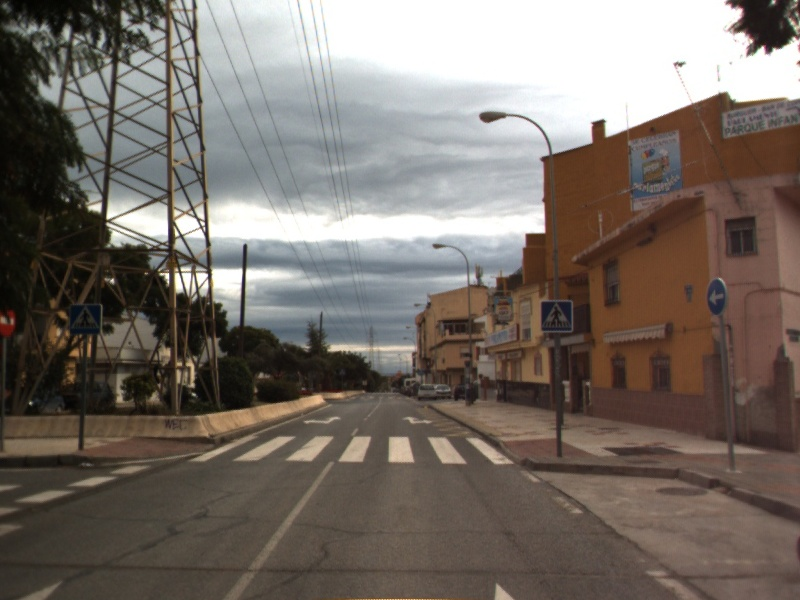STRAIGHT_LEFT: (301, 414, 343, 427)
STRAIGHT_RIGHT: (400, 414, 435, 426)
